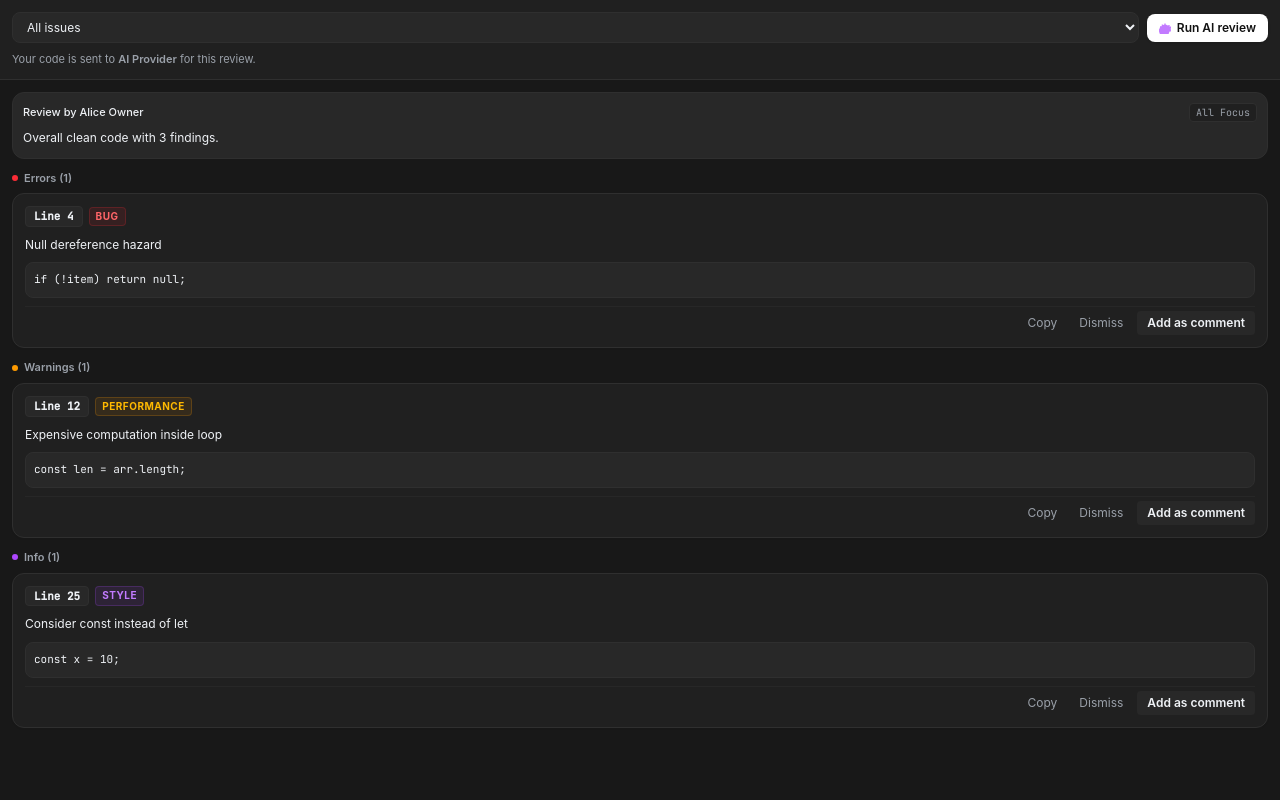
Scenario: Stage 3: AI Code Review Frontend › AiReviewPanel Component › clicking 'Copy' copies suggestion to clipboard
This screenshot has width=1280, height=800.
Click the 1st button "Copy".
click(1042, 323)  # box [1020,311,1065,335]
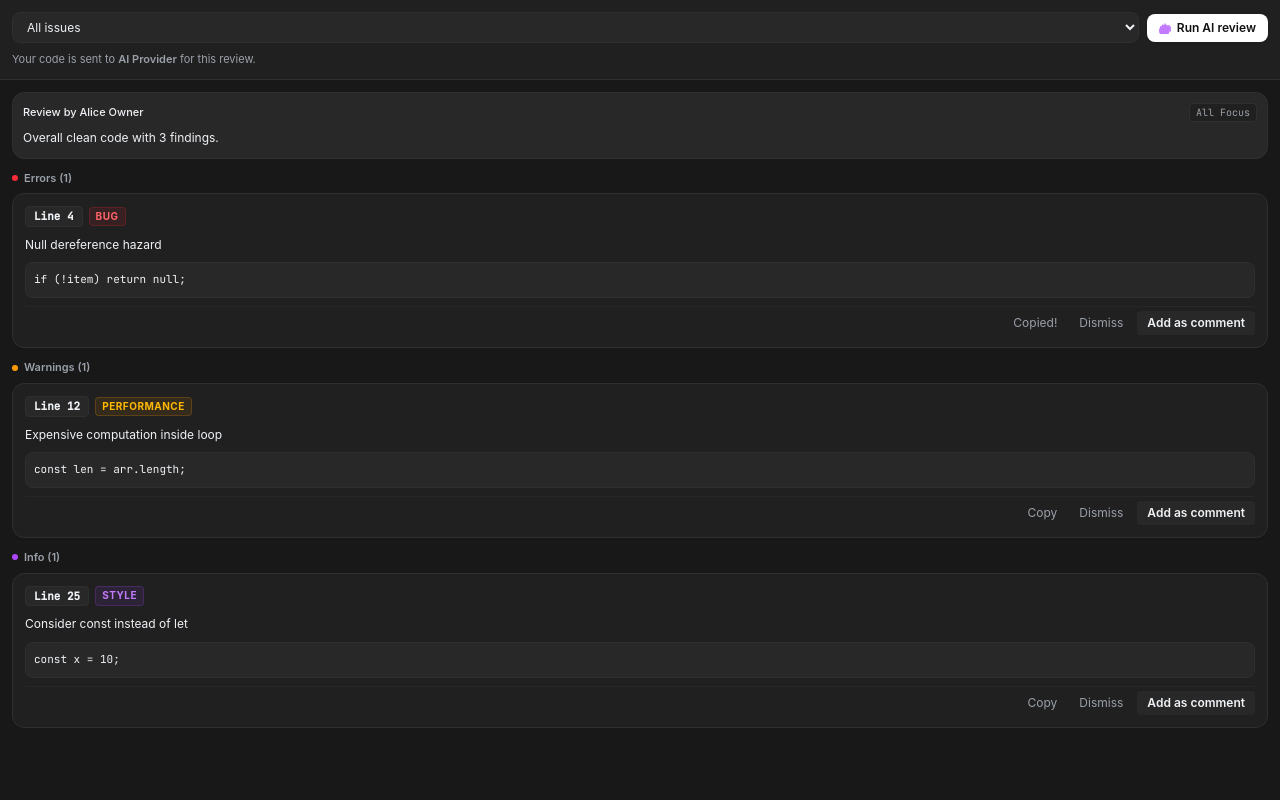
Expected: the button "Copied!" is shown, [1005,311,1065,335]
